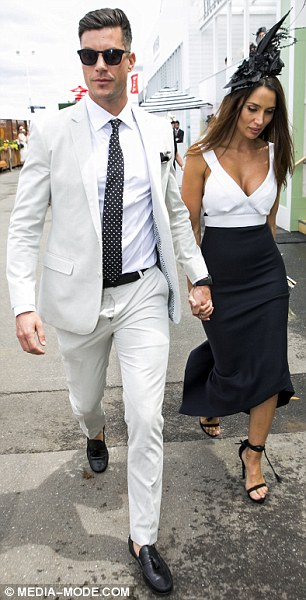Person: (4, 8, 210, 597), (182, 10, 291, 501)
